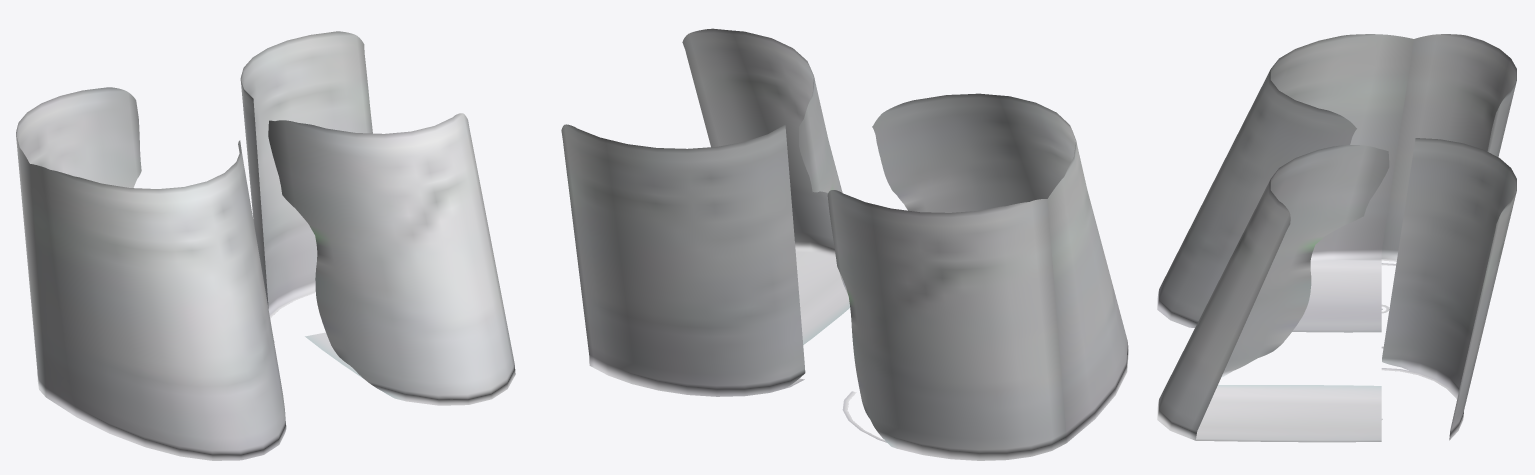
The model's file is prod-ae-cloud-platform-sneakers.glb.
3 views of the same model, side by side, from view 1: azimuth 30°, elevation 25°; view 2: azimuth 150°, elevation 25°; view 3: azimuth 270°, elevation 25° (orthographic). The views are drawn at different scales.
Visible parts, largest first — view 1: prod-ae-cloud-platform-sneakers; view 2: prod-ae-cloud-platform-sneakers; view 3: prod-ae-cloud-platform-sneakers.
Part boxes in pixels (box(x1,y1,x2,y2)): prod-ae-cloud-platform-sneakers: box(16, 31, 515, 460); prod-ae-cloud-platform-sneakers: box(561, 28, 1128, 460); prod-ae-cloud-platform-sneakers: box(1157, 34, 1516, 442).
Bounding box in the file's own units: 0.1702 × 0.0983 × 0.1295.
1 material, 1 textured.
